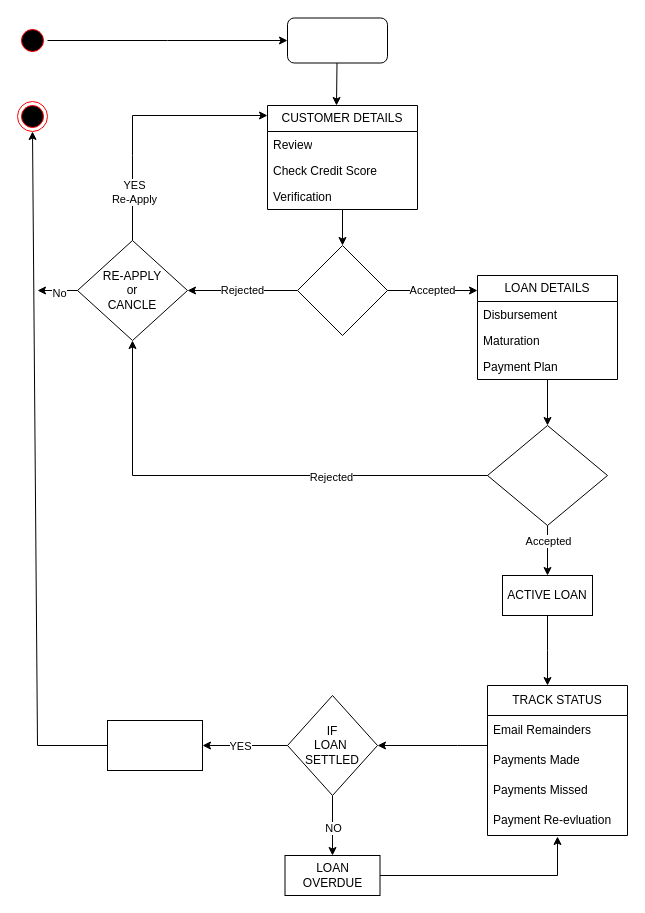
This 645x913 diagram has some shape labels left out. Here are the shapes that lost their labels. From the top down, the centre of each, then its label:
At pixel 337 40: "LOAN APPLICATION".
At pixel 342 290: "IF APPROVED".
At pixel 547 475: "IF CUSTOMER ACCEPTS".
At pixel 154 745: "LOAN CLOSED".
